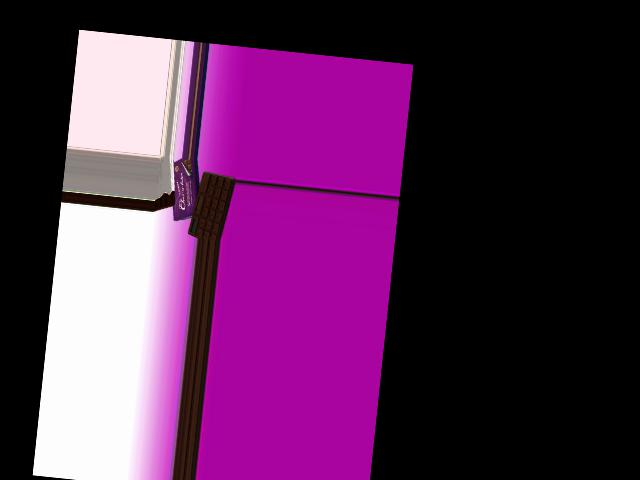chocolate: (186, 171, 236, 239)
